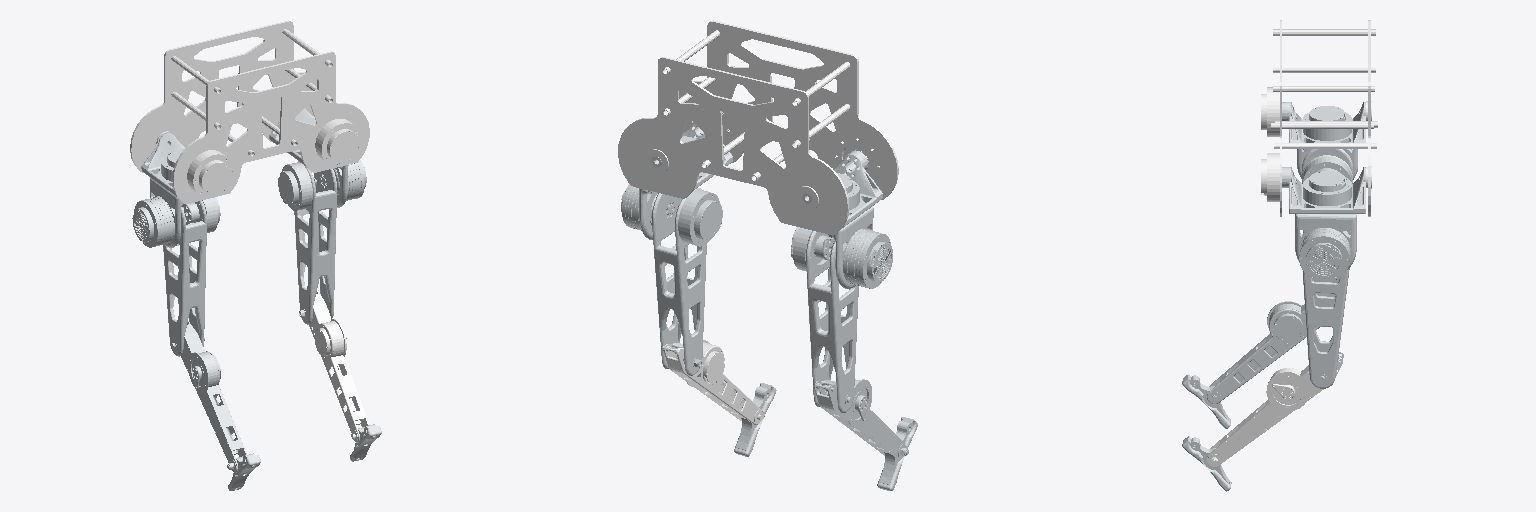
robot.urdf — Alexbot_simple_urdf:
<?xml version="1.0" encoding="utf-8"?>
<!-- This URDF was automatically created by SolidWorks to URDF Exporter! Originally created by [author] ([email redacted]) 
     Commit Version: 1.6.0-4-g7f85cfe  Build Version: 1.6.7995.38578
     For more information, please see http://wiki.ros.org/sw_urdf_exporter -->
<robot
  name="Alexbot_simple_urdf">
  <link
    name="base_link">
    <inertial>
      <origin
        xyz="0.00012551 -0.040688 -0.16661"
        rpy="0 0 0" />
      <mass
        value="2.3881" />
      <inertia
        ixx="0.0071493"
        ixy="3.269E-08"
        ixz="1.6205E-05"
        iyy="0.026658"
        iyz="-1.3812E-08"
        izz="0.019906" />
    </inertial>
    <visual>
      <origin
        xyz="0 0 0"
        rpy="0 0 0" />
      <geometry>
        <mesh
          filename="package://Alexbot_simple_urdf/meshes/base_link.STL" />
      </geometry>
      <material
        name="">
        <color
          rgba="1 1 1 1" />
      </material>
    </visual>
    <collision>
      <origin
        xyz="0 0 0"
        rpy="0 0 0" />
      <geometry>
        <mesh
          filename="package://Alexbot_simple_urdf/meshes/base_link.STL" />
      </geometry>
    </collision>
  </link>
  <link
    name="leftlink1">
    <inertial>
      <origin
        xyz="-2.2786E-05 0.088743 -0.032041"
        rpy="0 0 0" />
      <mass
        value="1.234" />
      <inertia
        ixx="0.0028154"
        ixy="-9.7791E-08"
        ixz="-3.6989E-08"
        iyy="0.0012563"
        iyz="5.5756E-05"
        izz="0.0036227" />
    </inertial>
    <visual>
      <origin
        xyz="0 0 0"
        rpy="0 0 0" />
      <geometry>
        <mesh
          filename="package://Alexbot_simple_urdf/meshes/leftlink1.STL" />
      </geometry>
      <material
        name="">
        <color
          rgba="0.89804 0.91765 0.92941 1" />
      </material>
    </visual>
    <collision>
      <origin
        xyz="0 0 0"
        rpy="0 0 0" />
      <geometry>
        <mesh
          filename="package://Alexbot_simple_urdf/meshes/leftlink1.STL" />
      </geometry>
    </collision>
  </link>
  <joint
    name="leftjoint1"
    type="revolute">
    <origin
      xyz="-0.15 -0.08575 -0.2"
      rpy="0 -0.011036 0" />
    <parent
      link="base_link" />
    <child
      link="leftlink1" />
    <axis
      xyz="0 -1 0" />
    <limit
      lower="-1"
      upper="0.3"
      effort="6"
      velocity="20" />
  </joint>
  <link
    name="leftlink2">
    <inertial>
      <origin
        xyz="-0.059836 1.9596E-05 -0.078557"
        rpy="0 0 0" />
      <mass
        value="1.3634" />
      <inertia
        ixx="0.0021769"
        ixy="-2.9637E-08"
        ixz="-0.00015"
        iyy="0.0014724"
        iyz="-8.5827E-08"
        izz="0.0012504" />
    </inertial>
    <visual>
      <origin
        xyz="0 0 0"
        rpy="0 0 0" />
      <geometry>
        <mesh
          filename="package://Alexbot_simple_urdf/meshes/leftlink2.STL" />
      </geometry>
      <material
        name="">
        <color
          rgba="0.89804 0.91765 0.92941 1" />
      </material>
    </visual>
    <collision>
      <origin
        xyz="0 0 0"
        rpy="0 0 0" />
      <geometry>
        <mesh
          filename="package://Alexbot_simple_urdf/meshes/leftlink2.STL" />
      </geometry>
    </collision>
  </link>
  <joint
    name="leftjoint2"
    type="revolute">
    <origin
      xyz="0 0.09 -0.041133"
      rpy="0 0 -0.0099441" />
    <parent
      link="leftlink1" />
    <child
      link="leftlink2" />
    <axis
      xyz="-7.9882E-05 0 1" />
    <limit
      lower="-1"
      upper="1"
      effort="6"
      velocity="20" />
  </joint>
  <link
    name="leftlink3">
    <inertial>
      <origin
        xyz="0.0081106 -0.013153 -0.076445"
        rpy="0 0 0" />
      <mass
        value="1.7019" />
      <inertia
        ixx="0.010704"
        ixy="4.3293E-05"
        ixz="0.00025007"
        iyy="0.0099712"
        iyz="-0.0012165"
        izz="0.001864" />
    </inertial>
    <visual>
      <origin
        xyz="0 0 0"
        rpy="0 0 0" />
      <geometry>
        <mesh
          filename="package://Alexbot_simple_urdf/meshes/leftlink3.STL" />
      </geometry>
      <material
        name="">
        <color
          rgba="0.89804 0.91765 0.92941 1" />
      </material>
    </visual>
    <collision>
      <origin
        xyz="0 0 0"
        rpy="0 0 0" />
      <geometry>
        <mesh
          filename="package://Alexbot_simple_urdf/meshes/leftlink3.STL" />
      </geometry>
    </collision>
  </link>
  <joint
    name="leftjoint3"
    type="revolute">
    <origin
      xyz="0 0 -0.091367"
      rpy="0.12662 0 0" />
    <parent
      link="leftlink2" />
    <child
      link="leftlink3" />
    <axis
      xyz="-1 -1.0088E-05 -7.9243E-05" />
    <limit
      lower="-1.5"
      upper="1.5"
      effort="12"
      velocity="20" />
  </joint>
  <link
    name="leftlink4">
    <inertial>
      <origin
        xyz="0.00031653 -0.013101 -0.098533"
        rpy="0 0 0" />
      <mass
        value="0.64823" />
      <inertia
        ixx="0.0027573"
        ixy="2.743E-06"
        ixz="3.8619E-06"
        iyy="0.0025871"
        iyz="-0.00010212"
        izz="0.00024153" />
    </inertial>
    <visual>
      <origin
        xyz="0 0 0"
        rpy="0 0 0" />
      <geometry>
        <mesh
          filename="package://Alexbot_simple_urdf/meshes/leftlink4.STL" />
      </geometry>
      <material
        name="">
        <color
          rgba="0.89804 0.91765 0.92941 1" />
      </material>
    </visual>
    <collision>
      <origin
        xyz="0 0 0"
        rpy="0 0 0" />
      <geometry>
        <mesh
          filename="package://Alexbot_simple_urdf/meshes/leftlink4.STL" />
      </geometry>
    </collision>
  </link>
  <joint
    name="leftjoint4"
    type="revolute">
    <origin
      xyz="-0.0012668 -0.042947 -0.27956"
      rpy="-0.12662 -7.9243E-05 1.0088E-05" />
    <parent
      link="leftlink3" />
    <child
      link="leftlink4" />
    <axis
      xyz="-1 0 0" />
    <limit
      lower="0.4"
      upper="1.2"
      effort="6"
      velocity="20" />
  </joint>
  <link
    name="leftlink5">
    <inertial>
      <origin
        xyz="0.00098964 -0.0027958 -0.013061"
        rpy="0 0 0" />
      <mass
        value="0.13731" />
      <inertia
        ixx="0.00015831"
        ixy="4.2543E-08"
        ixz="2.987E-08"
        iyy="1.34E-05"
        iyz="7.2649E-06"
        izz="0.00015754" />
    </inertial>
    <visual>
      <origin
        xyz="0 0 0"
        rpy="0 0 0" />
      <geometry>
        <mesh
          filename="package://Alexbot_simple_urdf/meshes/leftlink5.STL" />
      </geometry>
      <material
        name="">
        <color
          rgba="0.89804 0.91765 0.92941 1" />
      </material>
    </visual>
    <collision>
      <origin
        xyz="0 0 0"
        rpy="0 0 0" />
      <geometry>
        <mesh
          filename="package://Alexbot_simple_urdf/meshes/leftlink5.STL" />
      </geometry>
    </collision>
  </link>
  <joint
    name="leftjoint5"
    type="revolute">
    <origin
      xyz="0 -0.012922 -0.28268"
      rpy="0 0 0" />
    <parent
      link="leftlink4" />
    <child
      link="leftlink5" />
    <axis
      xyz="1 0 0" />
    <limit
      lower="-1"
      upper="1"
      effort="6"
      velocity="20" />
  </joint>
  <link
    name="rightlink1">
    <inertial>
      <origin
        xyz="-3.6059E-05 0.088751 -0.032041"
        rpy="0 0 0" />
      <mass
        value="1.234" />
      <inertia
        ixx="0.0028155"
        ixy="2.331E-07"
        ixz="3.4726E-08"
        iyy="0.0012563"
        iyz="5.5748E-05"
        izz="0.0036227" />
    </inertial>
    <visual>
      <origin
        xyz="0 0 0"
        rpy="0 0 0" />
      <geometry>
        <mesh
          filename="package://Alexbot_simple_urdf/meshes/rightlink1.STL" />
      </geometry>
      <material
        name="">
        <color
          rgba="0.89804 0.91765 0.92941 1" />
      </material>
    </visual>
    <collision>
      <origin
        xyz="0 0 0"
        rpy="0 0 0" />
      <geometry>
        <mesh
          filename="package://Alexbot_simple_urdf/meshes/rightlink1.STL" />
      </geometry>
    </collision>
  </link>
  <joint
    name="rightjoint1"
    type="revolute">
    <origin
      xyz="0.15 -0.08575 -0.2"
      rpy="0 -0.0027293 0" />
    <parent
      link="base_link" />
    <child
      link="rightlink1" />
    <axis
      xyz="0 -1 0" />
    <limit
      lower="-0.3"
      upper="1"
      effort="6"
      velocity="20" />
  </joint>
  <link
    name="rightlink2">
    <inertial>
      <origin
        xyz="0.059846 -2.9857E-05 -0.077374"
        rpy="0 0 0" />
      <mass
        value="1.3634" />
      <inertia
        ixx="0.0021769"
        ixy="-8.6102E-08"
        ixz="0.0001501"
        iyy="0.001472"
        iyz="4.7304E-07"
        izz="0.0012508" />
    </inertial>
    <visual>
      <origin
        xyz="0 0 0"
        rpy="0 0 0" />
      <geometry>
        <mesh
          filename="package://Alexbot_simple_urdf/meshes/rightlink2.STL" />
      </geometry>
      <material
        name="">
        <color
          rgba="0.89804 0.91765 0.92941 1" />
      </material>
    </visual>
    <collision>
      <origin
        xyz="0 0 0"
        rpy="0 0 0" />
      <geometry>
        <mesh
          filename="package://Alexbot_simple_urdf/meshes/rightlink2.STL" />
      </geometry>
    </collision>
  </link>
  <joint
    name="rightjoint2"
    type="revolute">
    <origin
      xyz="0 0.09 -0.042283"
      rpy="0 0 -0.065122" />
    <parent
      link="rightlink1" />
    <child
      link="rightlink2" />
    <axis
      xyz="0 0 1" />
    <limit
      lower="-1"
      upper="1"
      effort="6"
      velocity="20" />
  </joint>
  <link
    name="rightlink3">
    <inertial>
      <origin
        xyz="0.0035443 -0.0096432 -0.077469"
        rpy="0 0 0" />
      <mass
        value="1.7019" />
      <inertia
        ixx="0.010145"
        ixy="1.1642E-05"
        ixz="0.0001789"
        iyy="0.010704"
        iyz="-0.00025272"
        izz="0.0016905" />
    </inertial>
    <visual>
      <origin
        xyz="0 0 0"
        rpy="0 0 0" />
      <geometry>
        <mesh
          filename="package://Alexbot_simple_urdf/meshes/rightlink3.STL" />
      </geometry>
      <material
        name="">
        <color
          rgba="0.89804 0.91765 0.92941 1" />
      </material>
    </visual>
    <collision>
      <origin
        xyz="0 0 0"
        rpy="0 0 0" />
      <geometry>
        <mesh
          filename="package://Alexbot_simple_urdf/meshes/rightlink3.STL" />
      </geometry>
    </collision>
  </link>
  <joint
    name="rightjoint3"
    type="revolute">
    <origin
      xyz="0.00155 0 -0.090217"
      rpy="0 0 -1.5708" />
    <parent
      link="rightlink2" />
    <child
      link="rightlink3" />
    <axis
      xyz="0 1 0" />
    <limit
      lower="-1.5"
      upper="1.5"
      effort="12"
      velocity="20" />
  </joint>
  <link
    name="rightlink4">
    <inertial>
      <origin
        xyz="-0.00041652 -0.013029 -0.098599"
        rpy="0 0 0" />
      <mass
        value="0.64823" />
      <inertia
        ixx="0.0027573"
        ixy="-2.5723E-06"
        ixz="-3.914E-06"
        iyy="0.0025879"
        iyz="-9.6186E-05"
        izz="0.00024071" />
    </inertial>
    <visual>
      <origin
        xyz="0 0 0"
        rpy="0 0 0" />
      <geometry>
        <mesh
          filename="package://Alexbot_simple_urdf/meshes/rightlink4.STL" />
      </geometry>
      <material
        name="">
        <color
          rgba="1 1 1 1" />
      </material>
    </visual>
    <collision>
      <origin
        xyz="0 0 0"
        rpy="0 0 0" />
      <geometry>
        <mesh
          filename="package://Alexbot_simple_urdf/meshes/rightlink4.STL" />
      </geometry>
    </collision>
  </link>
  <joint
    name="rightjoint4"
    type="revolute">
    <origin
      xyz="0.0078801 0 -0.28273"
      rpy="0 0 1.5708" />
    <parent
      link="rightlink3" />
    <child
      link="rightlink4" />
    <axis
      xyz="1 0 0" />
    <limit
      lower="-1.2"
      upper="-0.4"
      effort="6"
      velocity="20" />
  </joint>
  <link
    name="rightlink5">
    <inertial>
      <origin
        xyz="0.0027794 0.00055995 -0.013073"
        rpy="0 0 0" />
      <mass
        value="0.13731" />
      <inertia
        ixx="1.3946E-05"
        ixy="9.3721E-06"
        ixz="-6.6014E-06"
        iyy="0.0001577"
        iyz="4.6064E-07"
        izz="0.0001576" />
    </inertial>
    <visual>
      <origin
        xyz="0 0 0"
        rpy="0 0 0" />
      <geometry>
        <mesh
          filename="package://Alexbot_simple_urdf/meshes/rightlink5.STL" />
      </geometry>
      <material
        name="">
        <color
          rgba="0.89804 0.91765 0.92941 1" />
      </material>
    </visual>
    <collision>
      <origin
        xyz="0 0 0"
        rpy="0 0 0" />
      <geometry>
        <mesh
          filename="package://Alexbot_simple_urdf/meshes/rightlink5.STL" />
      </geometry>
    </collision>
  </link>
  <joint
    name="rightjoint5"
    type="revolute">
    <origin
      xyz="0 -0.0121 -0.28272"
      rpy="0 0 -1.5057" />
    <parent
      link="rightlink4" />
    <child
      link="rightlink5" />
    <axis
      xyz="-0.065076 -0.99788 0" />
    <limit
      lower="-1"
      upper="1"
      effort="6"
      velocity="20" />
  </joint>
</robot>

--- Facts derived from the render (not from the file) ---
3 views of the same robot in one strip: view 1: azimuth 30°, elevation 25°; view 2: azimuth 150°, elevation 25°; view 3: azimuth 270°, elevation 25° (orthographic).
Robot: Alexbot_simple_urdf — 11 links, 10 joints (10 revolute); root link base_link; default pose: all joints at 0 but 2 set to mid-range because 0 is outside their limits (leftjoint4 = 0.8, rightjoint4 = -0.8).
Links seen in each view (by area): view 1: base_link, rightlink3, leftlink3, leftlink4, rightlink4, leftlink2, leftlink1, rightlink2, leftlink5, rightlink5; view 2: base_link, rightlink3, leftlink3, leftlink2, rightlink4, leftlink4, leftlink1, rightlink2, rightlink5, leftlink5, rightlink1; view 3: base_link, rightlink2, rightlink4, rightlink3, leftlink4, rightlink1, leftlink1, leftlink3, rightlink5, leftlink5.
Boxes of the visible links, bbox=[...] form: base_link: bbox=[130, 20, 369, 203]; rightlink3: bbox=[278, 161, 336, 324]; leftlink3: bbox=[163, 197, 220, 356]; leftlink4: bbox=[181, 321, 246, 472]; rightlink4: bbox=[309, 289, 368, 442]; leftlink2: bbox=[132, 178, 183, 247]; leftlink1: bbox=[141, 133, 184, 196]; rightlink2: bbox=[333, 160, 366, 207]; leftlink5: bbox=[228, 453, 260, 490]; rightlink5: bbox=[350, 424, 381, 461]; base_link: bbox=[618, 20, 898, 234]; rightlink3: bbox=[652, 188, 722, 375]; leftlink3: bbox=[791, 227, 858, 412]; leftlink2: bbox=[832, 206, 892, 288]; rightlink4: bbox=[662, 340, 762, 424]; leftlink4: bbox=[814, 379, 908, 459]; leftlink1: bbox=[802, 150, 882, 227]; rightlink2: bbox=[621, 184, 657, 239]; rightlink5: bbox=[734, 383, 776, 456]; leftlink5: bbox=[877, 417, 917, 490]; rightlink1: bbox=[652, 122, 732, 190]; base_link: bbox=[1261, 20, 1377, 216]; rightlink2: bbox=[1295, 214, 1356, 281]; rightlink4: bbox=[1207, 352, 1343, 466]; rightlink3: bbox=[1303, 230, 1350, 388]; leftlink4: bbox=[1207, 301, 1320, 403]; rightlink1: bbox=[1282, 167, 1365, 213]; leftlink1: bbox=[1282, 102, 1365, 142]; leftlink3: bbox=[1302, 149, 1352, 296]; rightlink5: bbox=[1182, 436, 1231, 491]; leftlink5: bbox=[1182, 374, 1230, 428].
Bounding box of the posed robot: 0.5085 × 0.3796 × 0.8721 m (x, y, z).
11 mesh visuals loaded from 11 distinct referenced files (11 binary STL).
